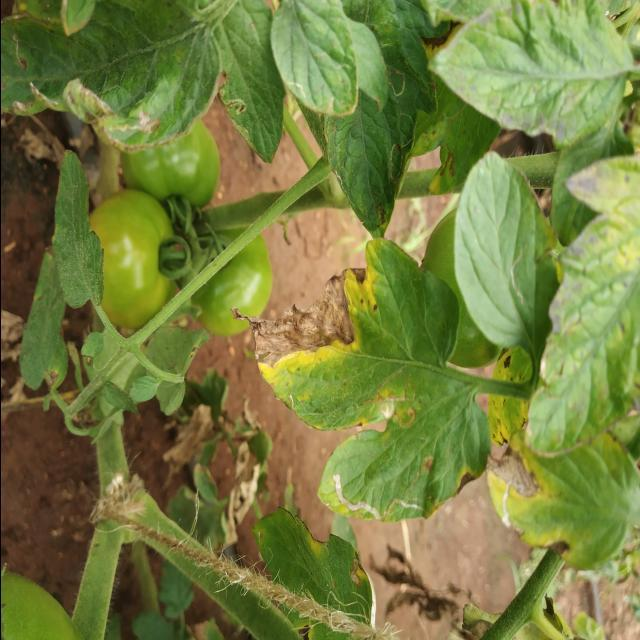Tomato mosaic virus leaf: (225, 238, 465, 432)
